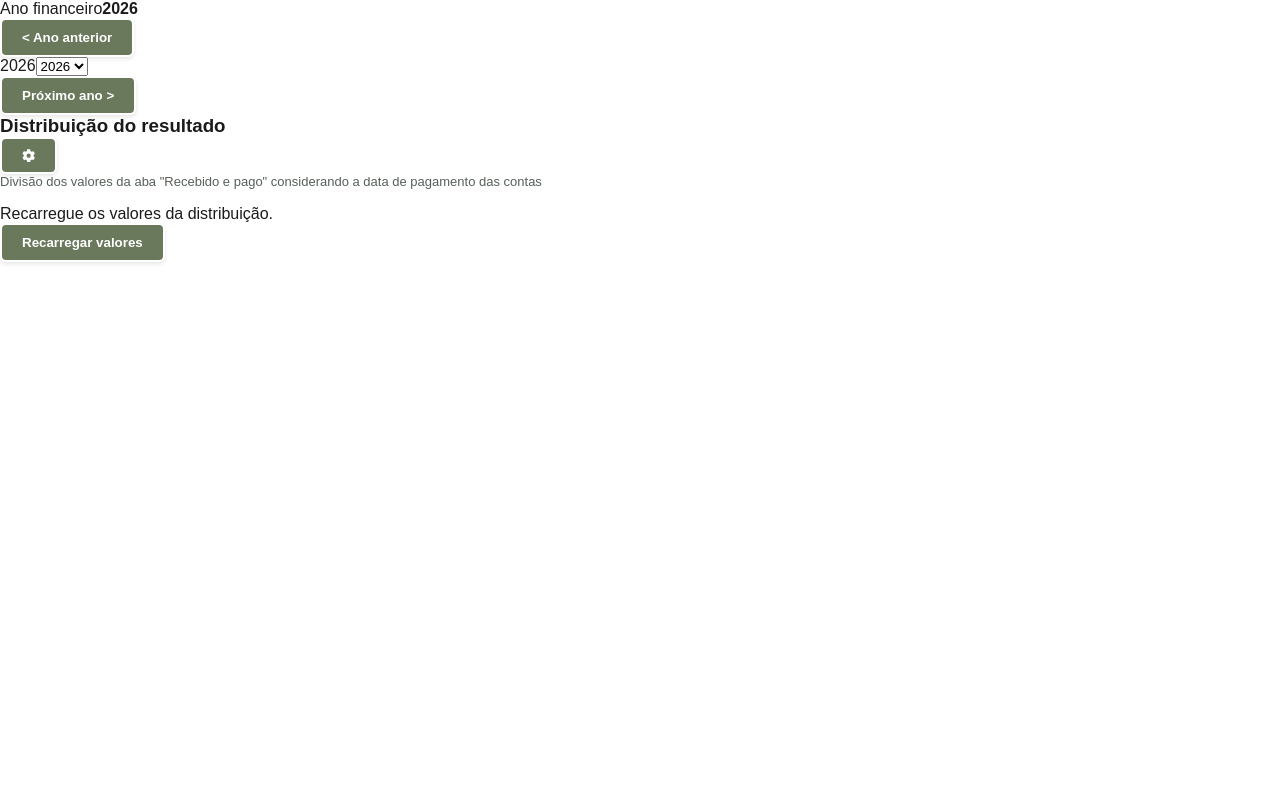
Scenario: regra pendente é visível, avisa substituição e abre com seus participantes
The width and height of the screenshot is (1280, 800).
Click the button named "Configurar distribuição". click: (29, 156)
box: [0, 137, 57, 174]
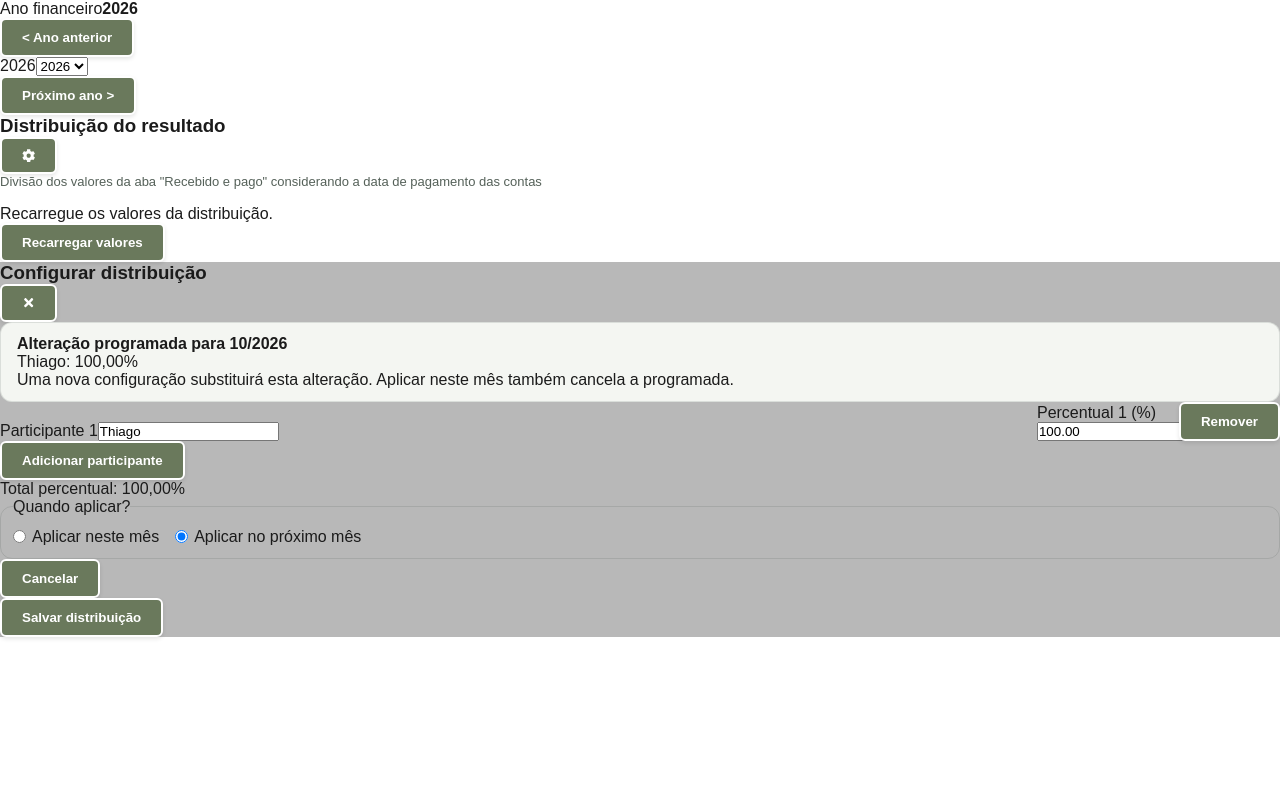
Check: the dialog "Configurar distribuição" shows "Alteração programada para 10/2026", box [0, 262, 1279, 637]
Check: the dialog "Configurar distribuição" shows "Uma nova configuração substituirá esta alteração", box [17, 371, 734, 388]
Check: the field labelled "Participante 1" holds "Thiago", box [98, 422, 279, 441]
